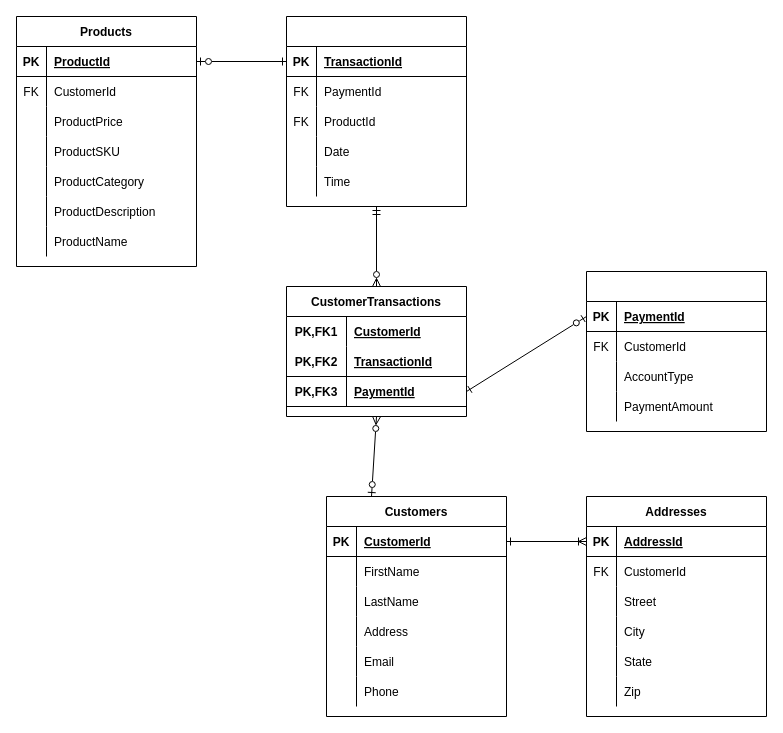
This 783x733 diagram has some shape labels left out. The box of each missing label's shape, as (x1, y1, x2, y2) in pixels:
Payments: (586, 270, 766, 432)
Transactions: (286, 16, 466, 206)
